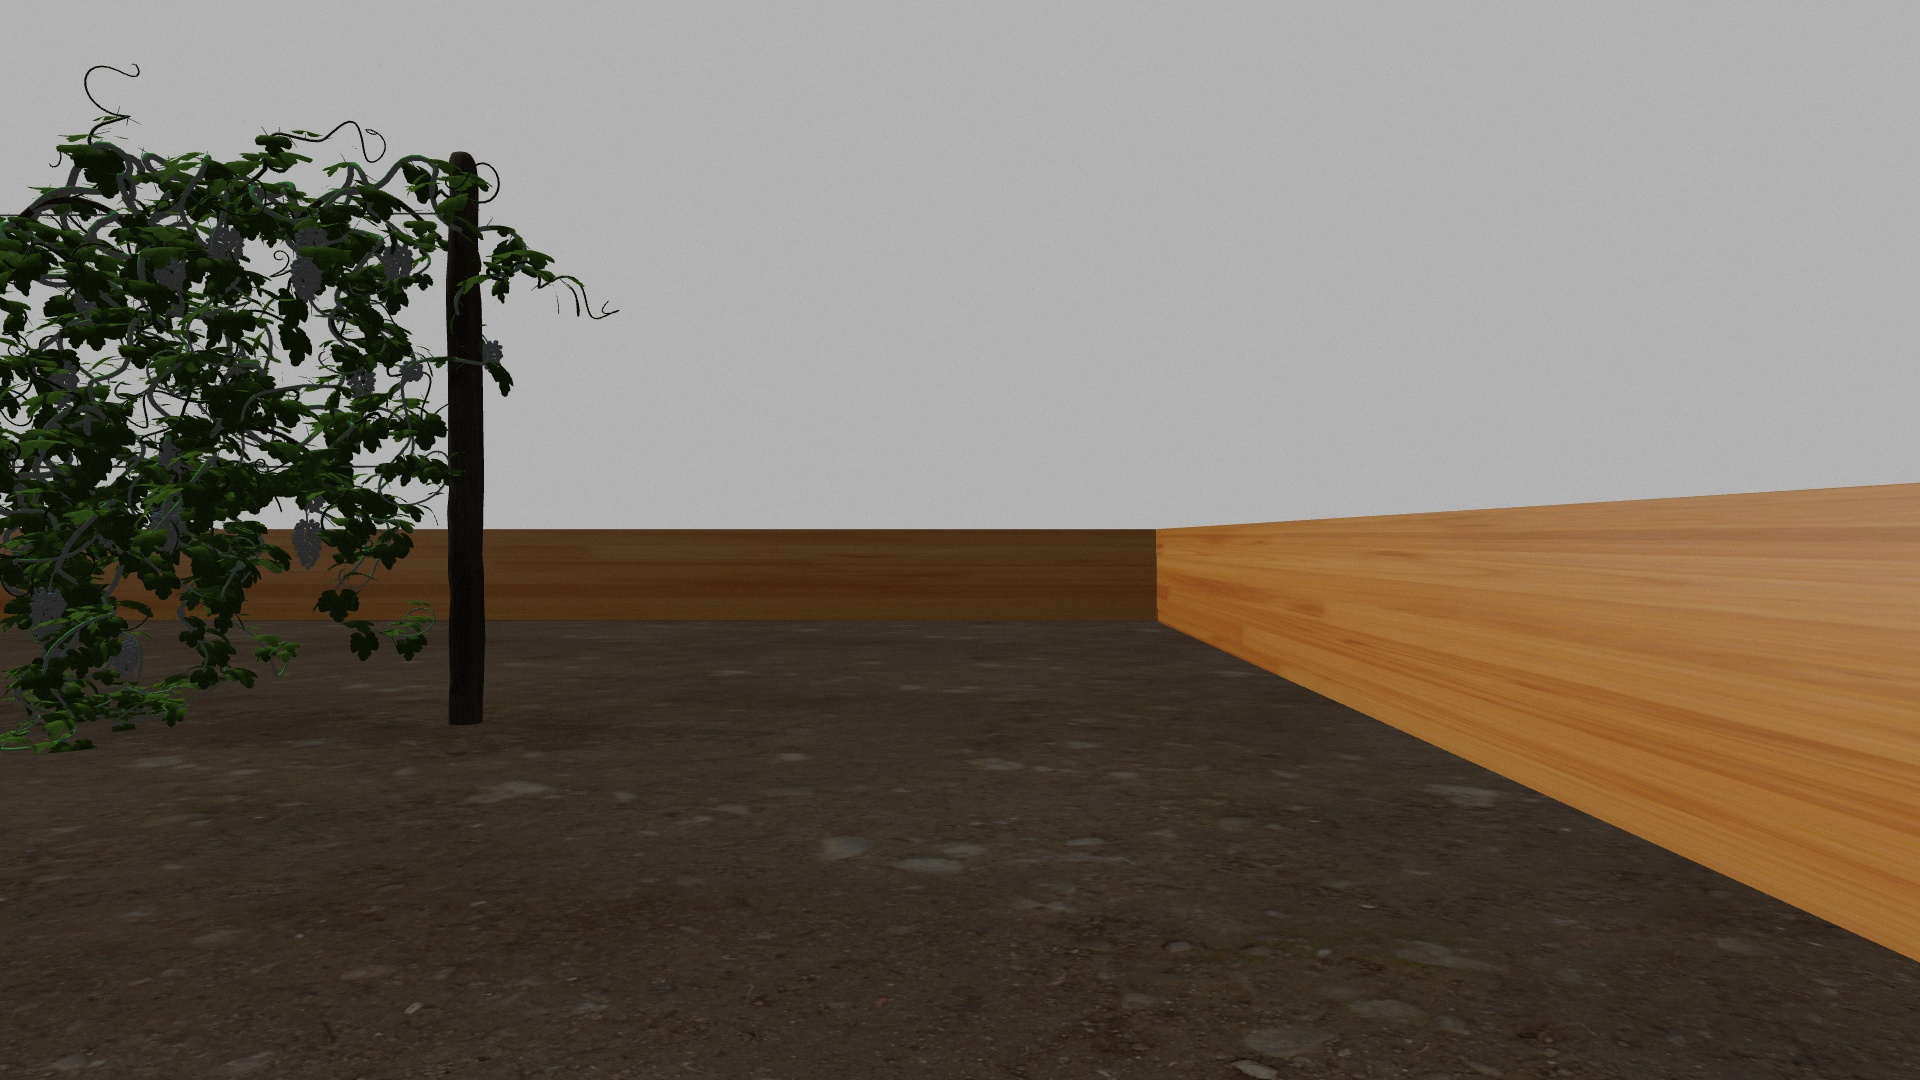grape: (30, 585, 67, 637), (293, 520, 324, 574), (290, 256, 324, 305), (156, 249, 187, 294), (382, 245, 415, 285), (113, 633, 141, 679), (208, 225, 243, 261), (351, 365, 377, 400), (483, 339, 502, 368), (400, 361, 425, 384)
